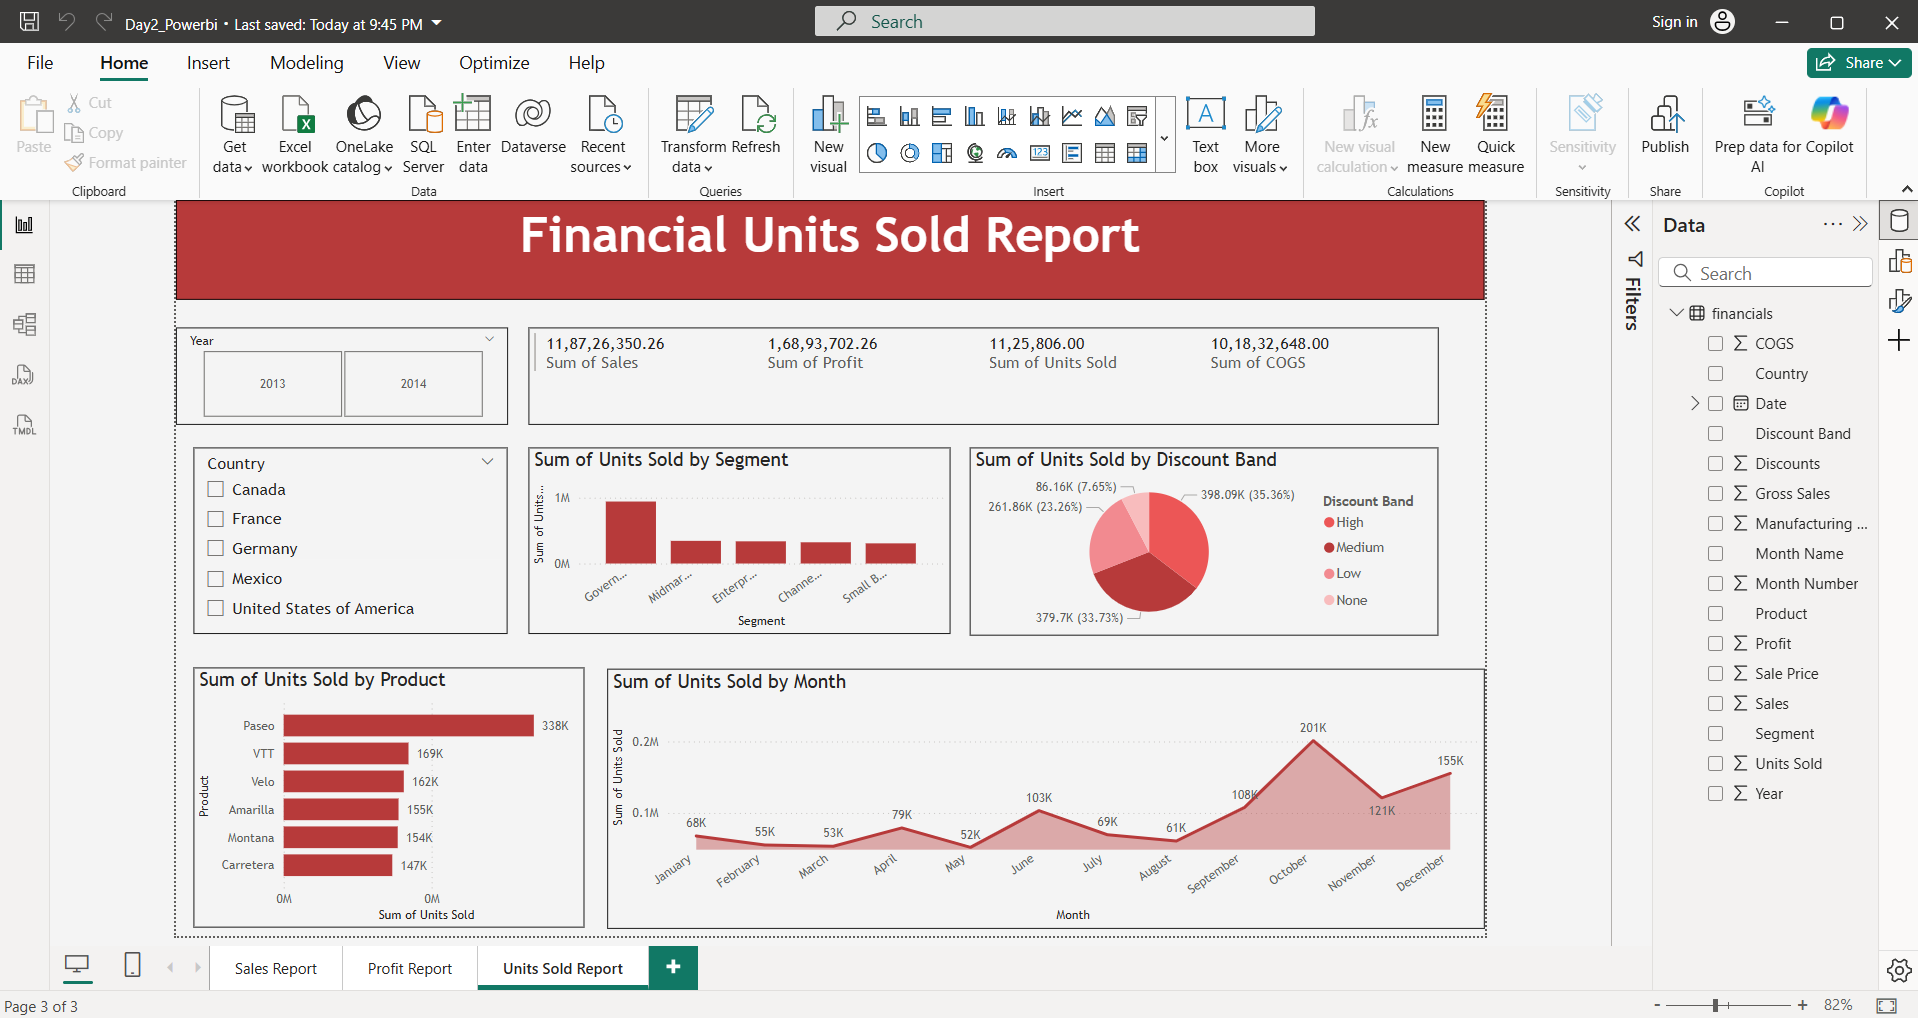

Layout of this report page (visuals, bound fields, positions):
{"tool":"powerbi","page":{"name":"Units Sold Report","canvas":[1280,720],"ordinal":2},"visuals":[{"type":"multiRowCard","fields":{"Values":["Sum(financials.Sales)","Sum(financials.Profit)","Sum(financials.Units Sold)","Sum(financials.COGS)"]},"box":[345,125,890,95],"z":0},{"type":"clusteredBarChart","fields":{"Category":["financials.Product"],"Y":["Sum(financials.Units Sold)"]},"box":[17.7,457.7,382.3,254.6],"z":1000},{"type":"slicer","fields":{"Values":["financials.Date.Variation.Date Hierarchy.Year"]},"box":[0,125,325,95],"z":2000},{"type":"textbox","box":[0,0,1280,97.5],"z":3000},{"type":"areaChart","fields":{"Category":["financials.Date.Variation.Date Hierarchy.Month"],"Y":["Sum(financials.Units Sold)"]},"box":[422,458,858,254],"z":4000},{"type":"slicer","fields":{"Values":["financials.Country"]},"box":[17.5,242.5,307.5,182.5],"z":5000},{"type":"clusteredColumnChart","fields":{"Y":["Sum(financials.Units Sold)"],"Category":["financials.Segment"]},"box":[345,242.5,412.5,182.5],"z":6000},{"type":"pieChart","fields":{"Y":["Sum(financials.Units Sold)"],"Category":["financials.Discount Band"]},"box":[776.2,242.5,458.8,183.8],"z":7000}]}

Visuals, with their boxes on the page's 1280x720 design canvas (x1, y1, x2, y2). These are canvas units, not pixel positions in the 1918x1018 screenshot, which may show the page scaled, cropped or inside an application window:
multiRowCard - Sum(financials.Sales) x Sum(financials.Profit): box=[345, 125, 1235, 220]
clusteredBarChart - financials.Product x Sum(financials.Units Sold): box=[18, 458, 400, 712]
slicer - financials.Date.Variation.Date Hierarchy.Year: box=[0, 125, 325, 220]
textbox: box=[0, 0, 1280, 98]
areaChart - financials.Date.Variation.Date Hierarchy.Month x Sum(financials.Units Sold): box=[422, 458, 1280, 712]
slicer - financials.Country: box=[18, 242, 325, 425]
clusteredColumnChart - Sum(financials.Units Sold) x financials.Segment: box=[345, 242, 758, 425]
pieChart - Sum(financials.Units Sold) x financials.Discount Band: box=[776, 242, 1235, 426]
